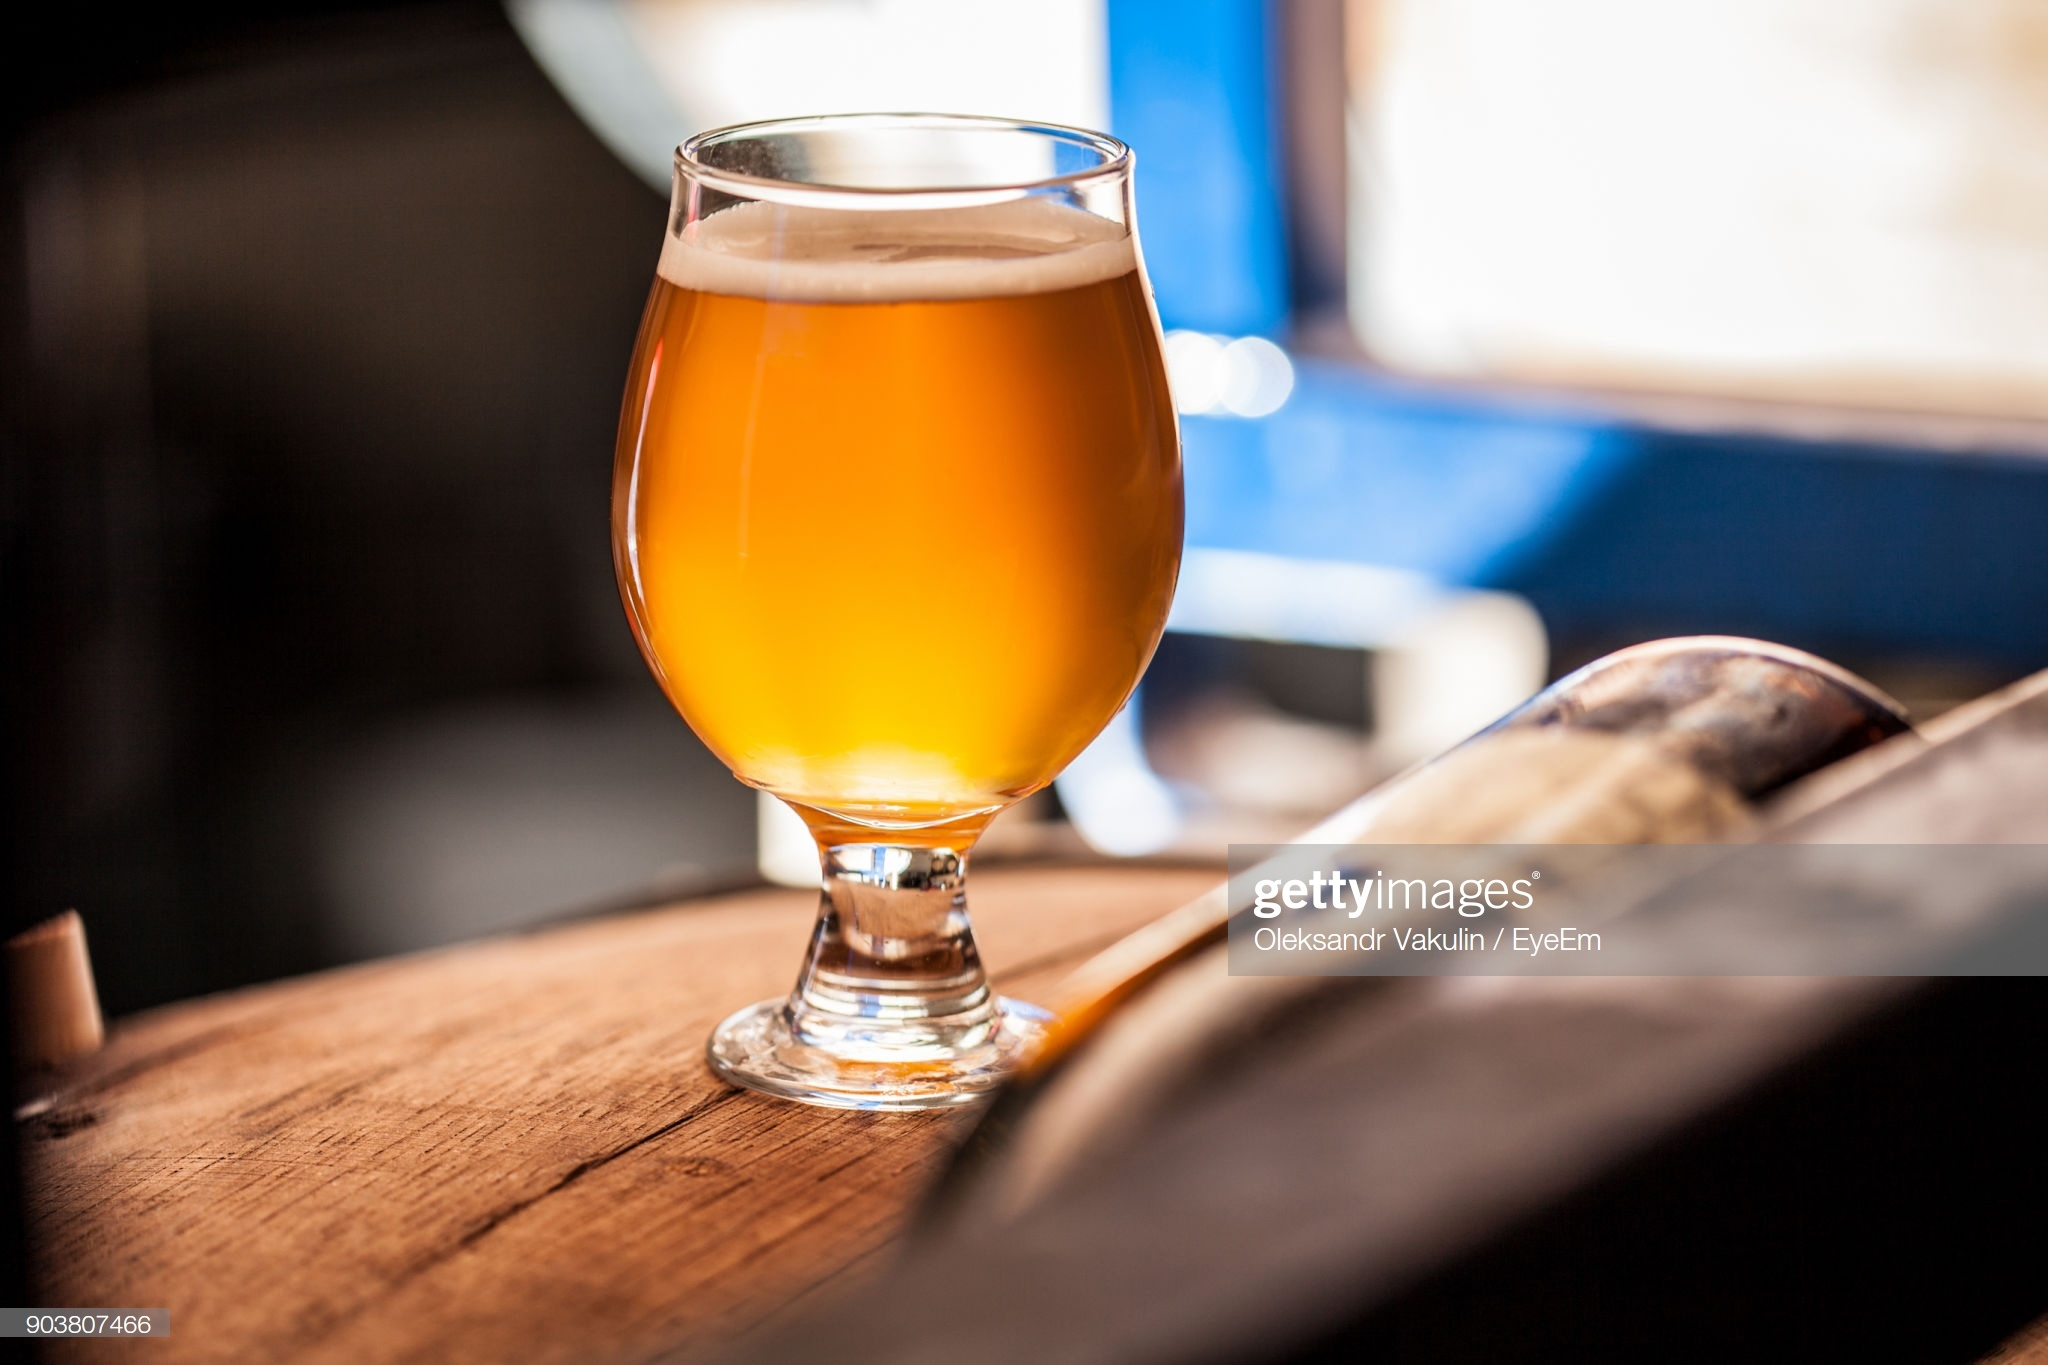glassBeer: (614, 122, 1162, 964)
